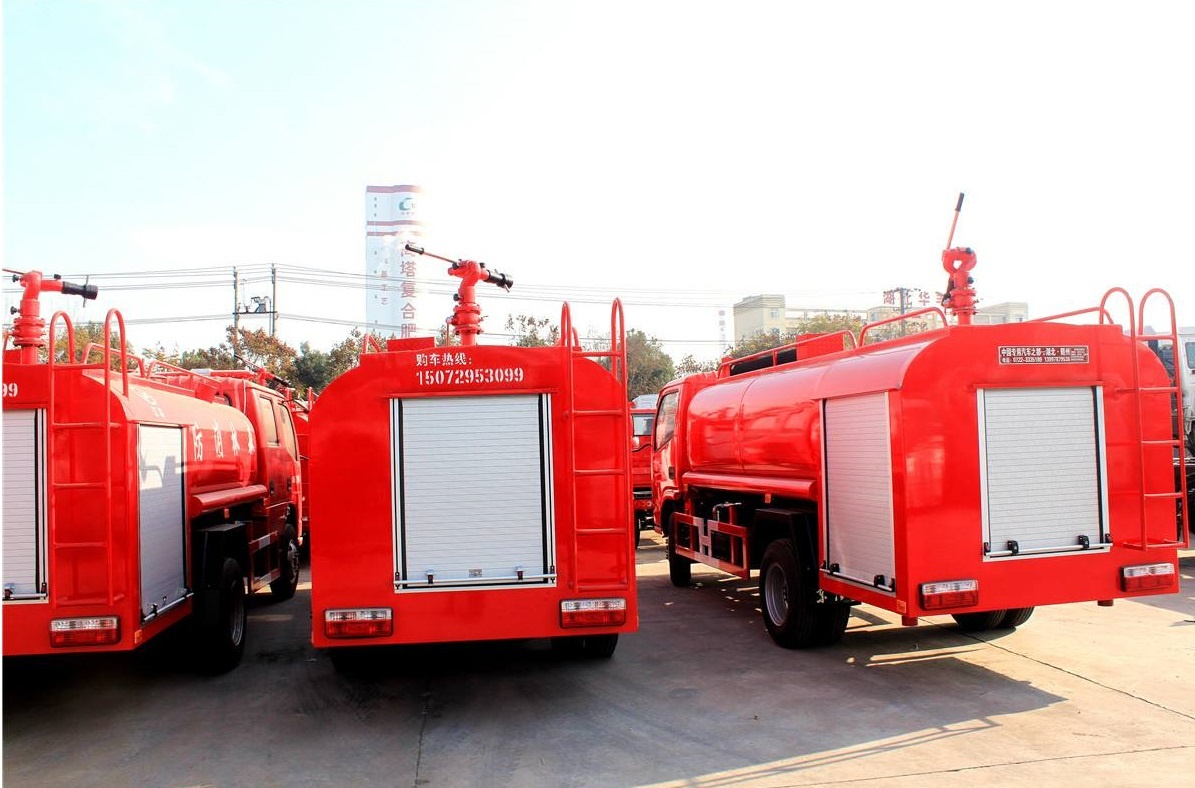fire engine: (644, 308, 1185, 674)
